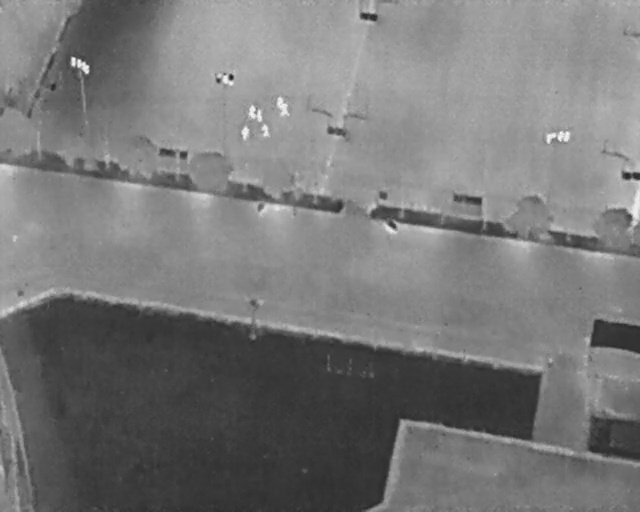Person: (279, 103, 291, 116), (241, 125, 250, 142), (248, 105, 256, 120), (262, 124, 271, 137), (257, 108, 264, 123), (276, 96, 284, 109)
